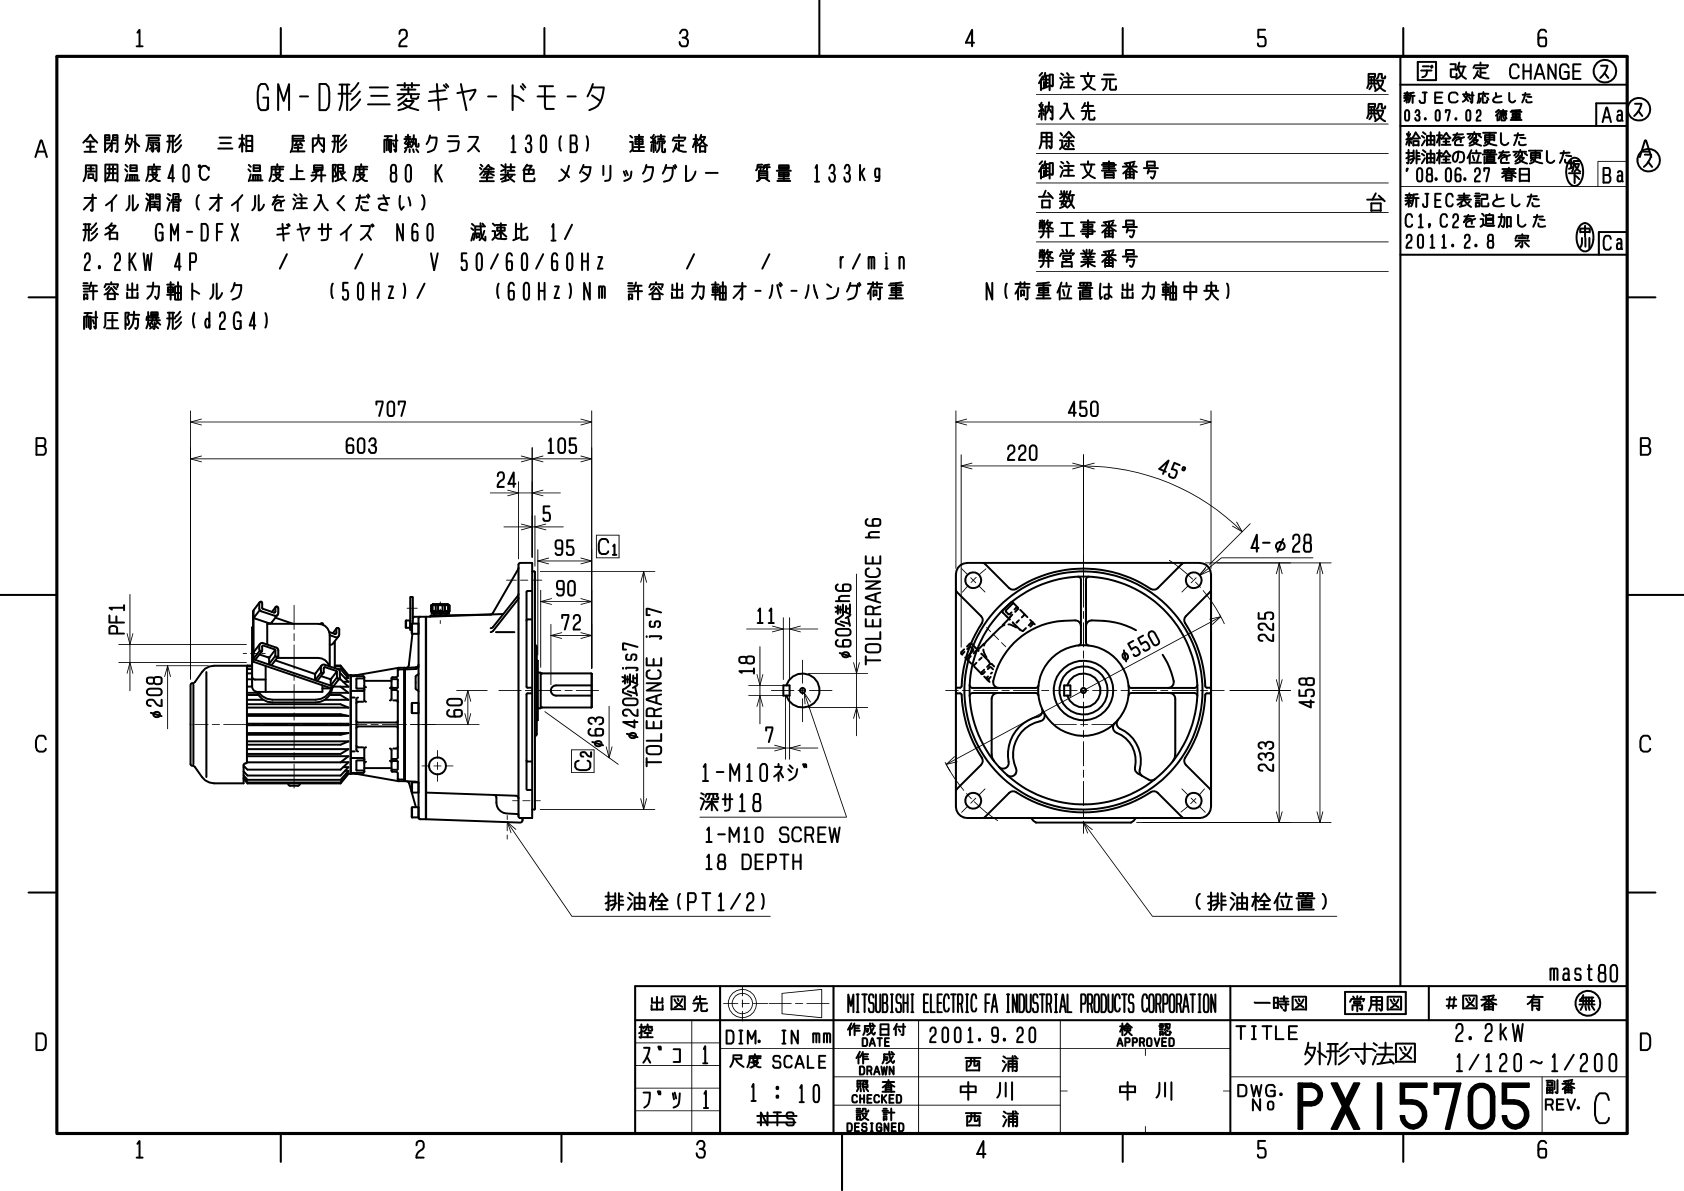GM_SP_屋内＿三相_フランジ: (79, 375, 1364, 953)
